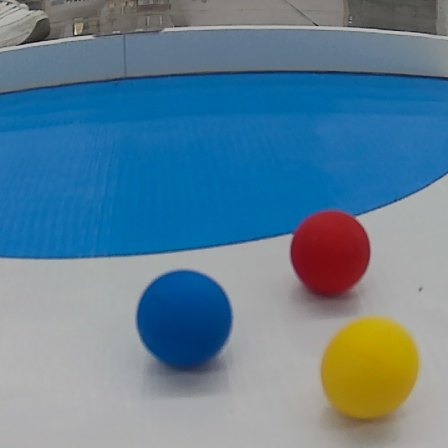blue: (135, 268, 237, 375)
blue_base: (3, 60, 448, 282)
red: (286, 208, 383, 299)
yellow: (317, 315, 427, 420)
